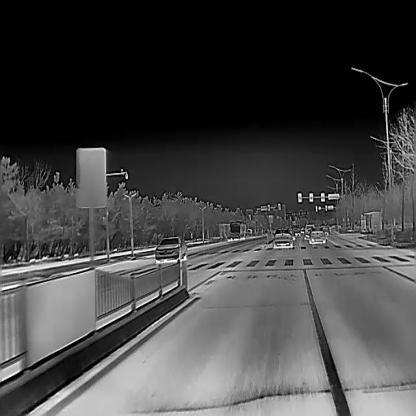car: (154, 234, 187, 265), (272, 228, 294, 249), (228, 221, 246, 242), (309, 227, 325, 244), (302, 223, 315, 239), (285, 226, 295, 240), (291, 223, 301, 236), (319, 224, 329, 235), (298, 225, 306, 234)
